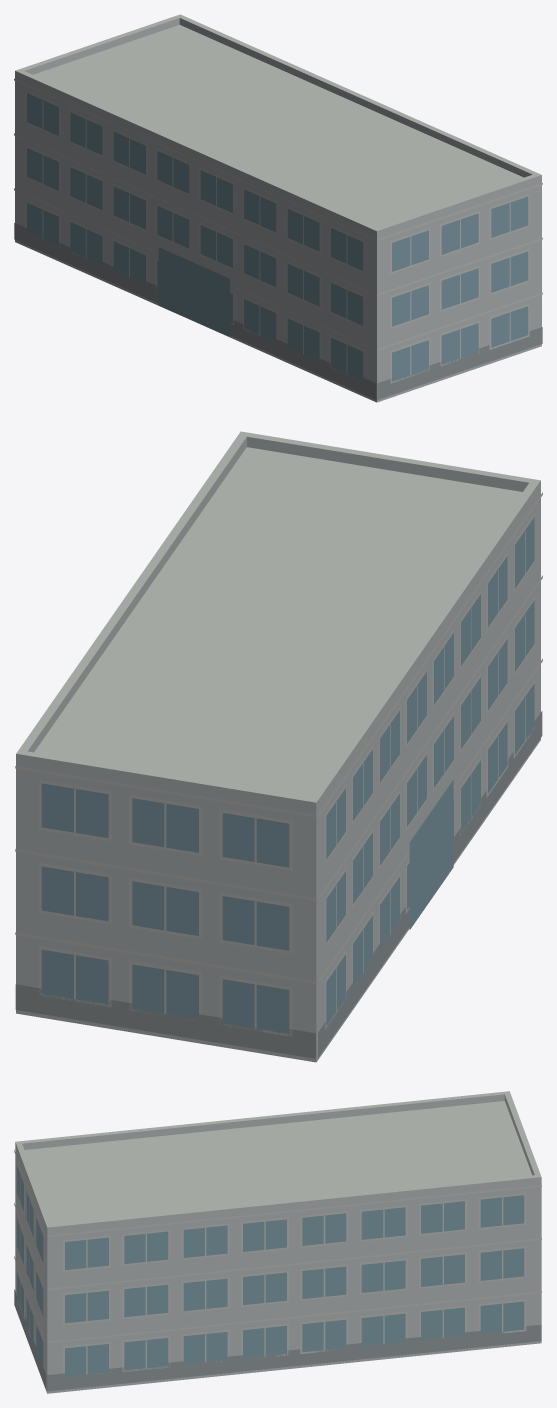
File: public-50ec8633-fdd7-4a79-a5d0-e70708161175.glb
The picture shows the model from 3 angles, top to bottom: view 1: azimuth 30°, elevation 25°; view 2: azimuth 150°, elevation 25°; view 3: azimuth 270°, elevation 25°; orthographic projection. The views are drawn at different scales.
Visible parts, largest first — view 1: public-50ec8633-fdd7-4a79-a5d0-e70708161175; view 2: public-50ec8633-fdd7-4a79-a5d0-e70708161175; view 3: public-50ec8633-fdd7-4a79-a5d0-e70708161175.
Part boxes in pixels (left/top/right/bottom): public-50ec8633-fdd7-4a79-a5d0-e70708161175: left=14, top=14, right=542, bottom=402; public-50ec8633-fdd7-4a79-a5d0-e70708161175: left=15, top=431, right=542, bottom=1062; public-50ec8633-fdd7-4a79-a5d0-e70708161175: left=14, top=1091, right=541, bottom=1393.
Bounding box in the file's own units: 16.25 × 9.15 × 26.4.
